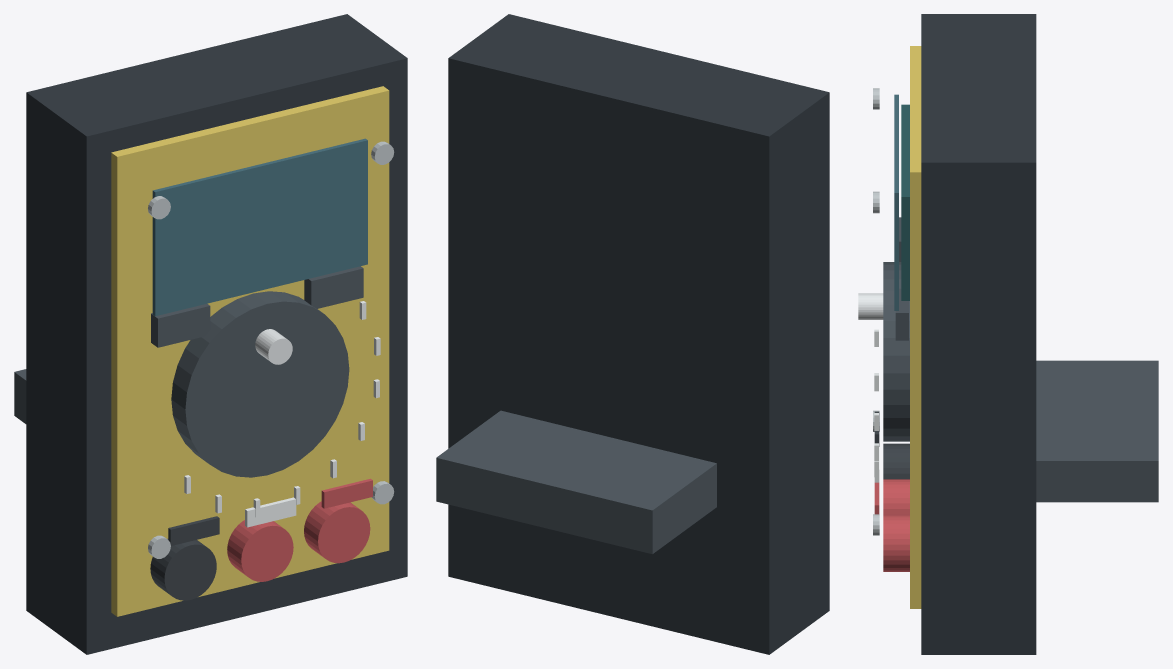
The model's file is multimeter_lod1.glb.
3 views of the same model, side by side, from view 1: azimuth 30°, elevation 25°; view 2: azimuth 150°, elevation 25°; view 3: azimuth 270°, elevation 25° (orthographic). The views are drawn at different scales.
Visible parts, largest first — view 1: DMM_RUBBER_SHELL_MAT_RUBBER, DMM_BODY_MAT_YELLOW, DMM_SCREEN_GLASS_MAT_SCREEN_GLASS, DMM_DIAL_MAT_POLYMER_BLACK, DMM_PORT_1_MAT_RED, DMM_PORT_2_MAT_RED, DMM_PORT_0_MAT_BLACK, DMM_BUTTON_0_MAT_POLYMER_BLACK, DMM_BUTTON_1_MAT_POLYMER_BLACK, DMM_PORT_LABEL_2_MAT_RED, DMM_PORT_LABEL_0_MAT_BLACK, DMM_DIAL_POINTER_MAT_WHITE (+2 smaller); view 2: DMM_RUBBER_SHELL_MAT_RUBBER, DMM_STAND_MAT_POLYMER_BLACK; view 3: DMM_RUBBER_SHELL_MAT_RUBBER, DMM_STAND_MAT_POLYMER_BLACK, DMM_BODY_MAT_YELLOW, DMM_DIAL_MAT_POLYMER_BLACK, DMM_SCREEN_MAT_EMISSIVE_SCREEN, DMM_PORT_2_MAT_RED, DMM_SCREEN_GLASS_MAT_SCREEN_GLASS, DMM_PORT_0_MAT_BLACK, DMM_PORT_1_MAT_RED, DMM_DIAL_POINTER_MAT_WHITE, DMM_BUTTON_1_MAT_POLYMER_BLACK.
Part boxes in pixels (bbox=[...]): DMM_RUBBER_SHELL_MAT_RUBBER: bbox=[26, 14, 407, 654]; DMM_BODY_MAT_YELLOW: bbox=[111, 86, 389, 616]; DMM_SCREEN_GLASS_MAT_SCREEN_GLASS: bbox=[152, 138, 367, 316]; DMM_DIAL_MAT_POLYMER_BLACK: bbox=[171, 291, 349, 477]; DMM_PORT_1_MAT_RED: bbox=[227, 520, 293, 581]; DMM_PORT_2_MAT_RED: bbox=[304, 501, 370, 563]; DMM_PORT_0_MAT_BLACK: bbox=[150, 539, 216, 600]; DMM_BUTTON_0_MAT_POLYMER_BLACK: bbox=[151, 304, 210, 347]; DMM_BUTTON_1_MAT_POLYMER_BLACK: bbox=[304, 266, 363, 308]; DMM_PORT_LABEL_2_MAT_RED: bbox=[321, 478, 372, 508]; DMM_PORT_LABEL_0_MAT_BLACK: bbox=[168, 516, 219, 545]; DMM_DIAL_POINTER_MAT_WHITE: bbox=[255, 329, 292, 364]; DMM_RUBBER_SHELL_MAT_RUBBER: bbox=[448, 14, 829, 654]; DMM_STAND_MAT_POLYMER_BLACK: bbox=[436, 410, 716, 554]; DMM_RUBBER_SHELL_MAT_RUBBER: bbox=[921, 14, 1036, 654]; DMM_STAND_MAT_POLYMER_BLACK: bbox=[1036, 360, 1158, 502]; DMM_BODY_MAT_YELLOW: bbox=[910, 46, 921, 608]; DMM_DIAL_MAT_POLYMER_BLACK: bbox=[883, 262, 909, 441]; DMM_SCREEN_MAT_EMISSIVE_SCREEN: bbox=[901, 104, 909, 300]; DMM_PORT_2_MAT_RED: bbox=[883, 514, 909, 571]; DMM_SCREEN_GLASS_MAT_SCREEN_GLASS: bbox=[894, 94, 898, 310]; DMM_PORT_0_MAT_BLACK: bbox=[883, 443, 909, 479]; DMM_PORT_1_MAT_RED: bbox=[883, 479, 909, 514]; DMM_DIAL_POINTER_MAT_WHITE: bbox=[858, 293, 883, 319]; DMM_BUTTON_1_MAT_POLYMER_BLACK: bbox=[895, 288, 908, 340].
Bounding box in the file's own units: 0.92 × 1.42 × 0.785.
